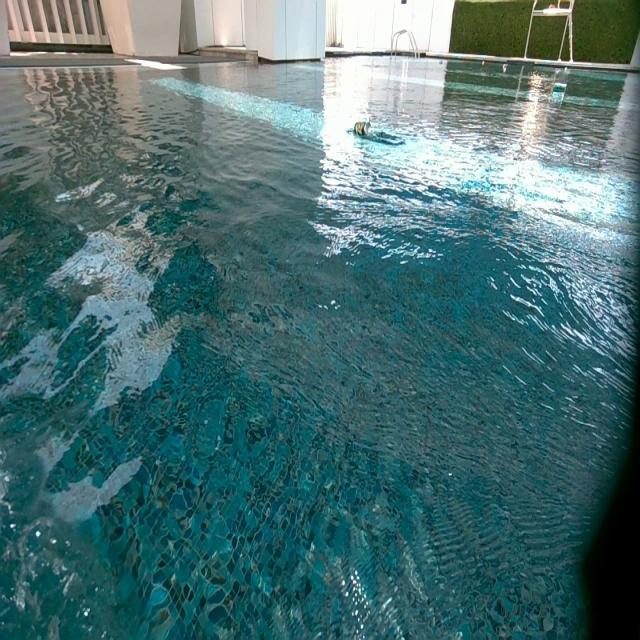Cans: (354, 120, 370, 138), (552, 84, 568, 100), (503, 64, 509, 73), (481, 61, 486, 66), (438, 60, 443, 64)
